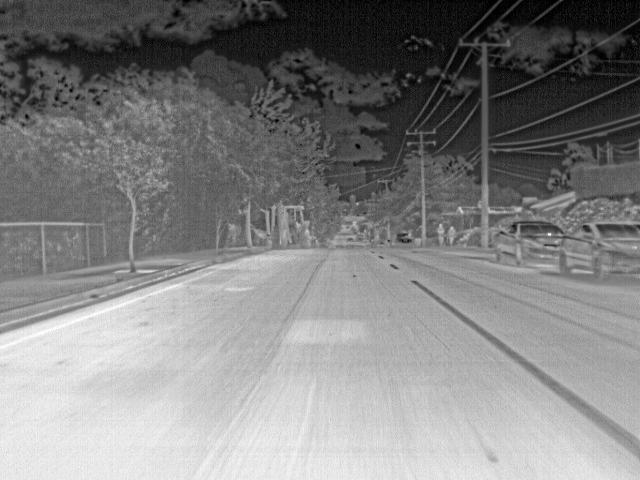car: (560, 218, 640, 282), (493, 220, 560, 266), (396, 228, 416, 246)
person: (445, 224, 455, 247), (436, 222, 445, 247)
